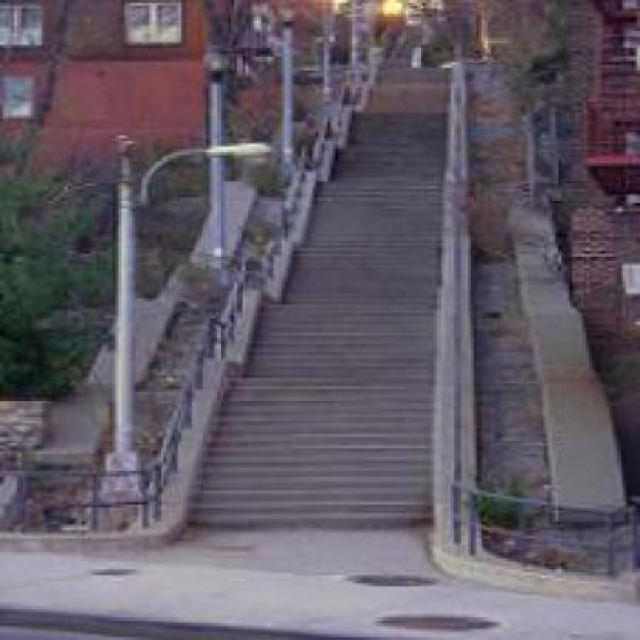stair: (166, 271, 463, 529)
